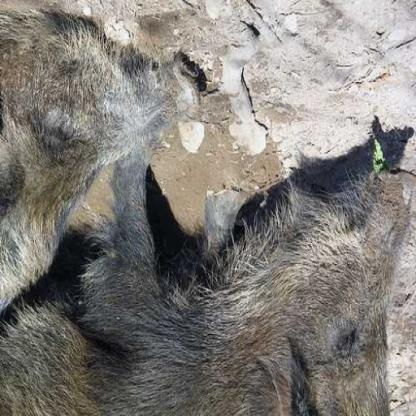boar: (5, 107, 415, 416), (14, 2, 195, 181)
